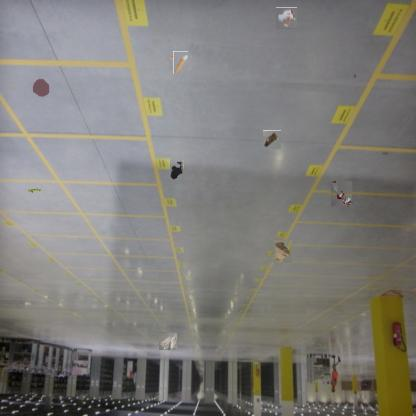dirty: (330, 180, 352, 206), (272, 239, 292, 263), (276, 7, 297, 29), (171, 53, 190, 72), (263, 130, 281, 149), (159, 332, 177, 350), (25, 188, 43, 196)
liquid: (30, 76, 50, 98), (170, 160, 184, 180)
